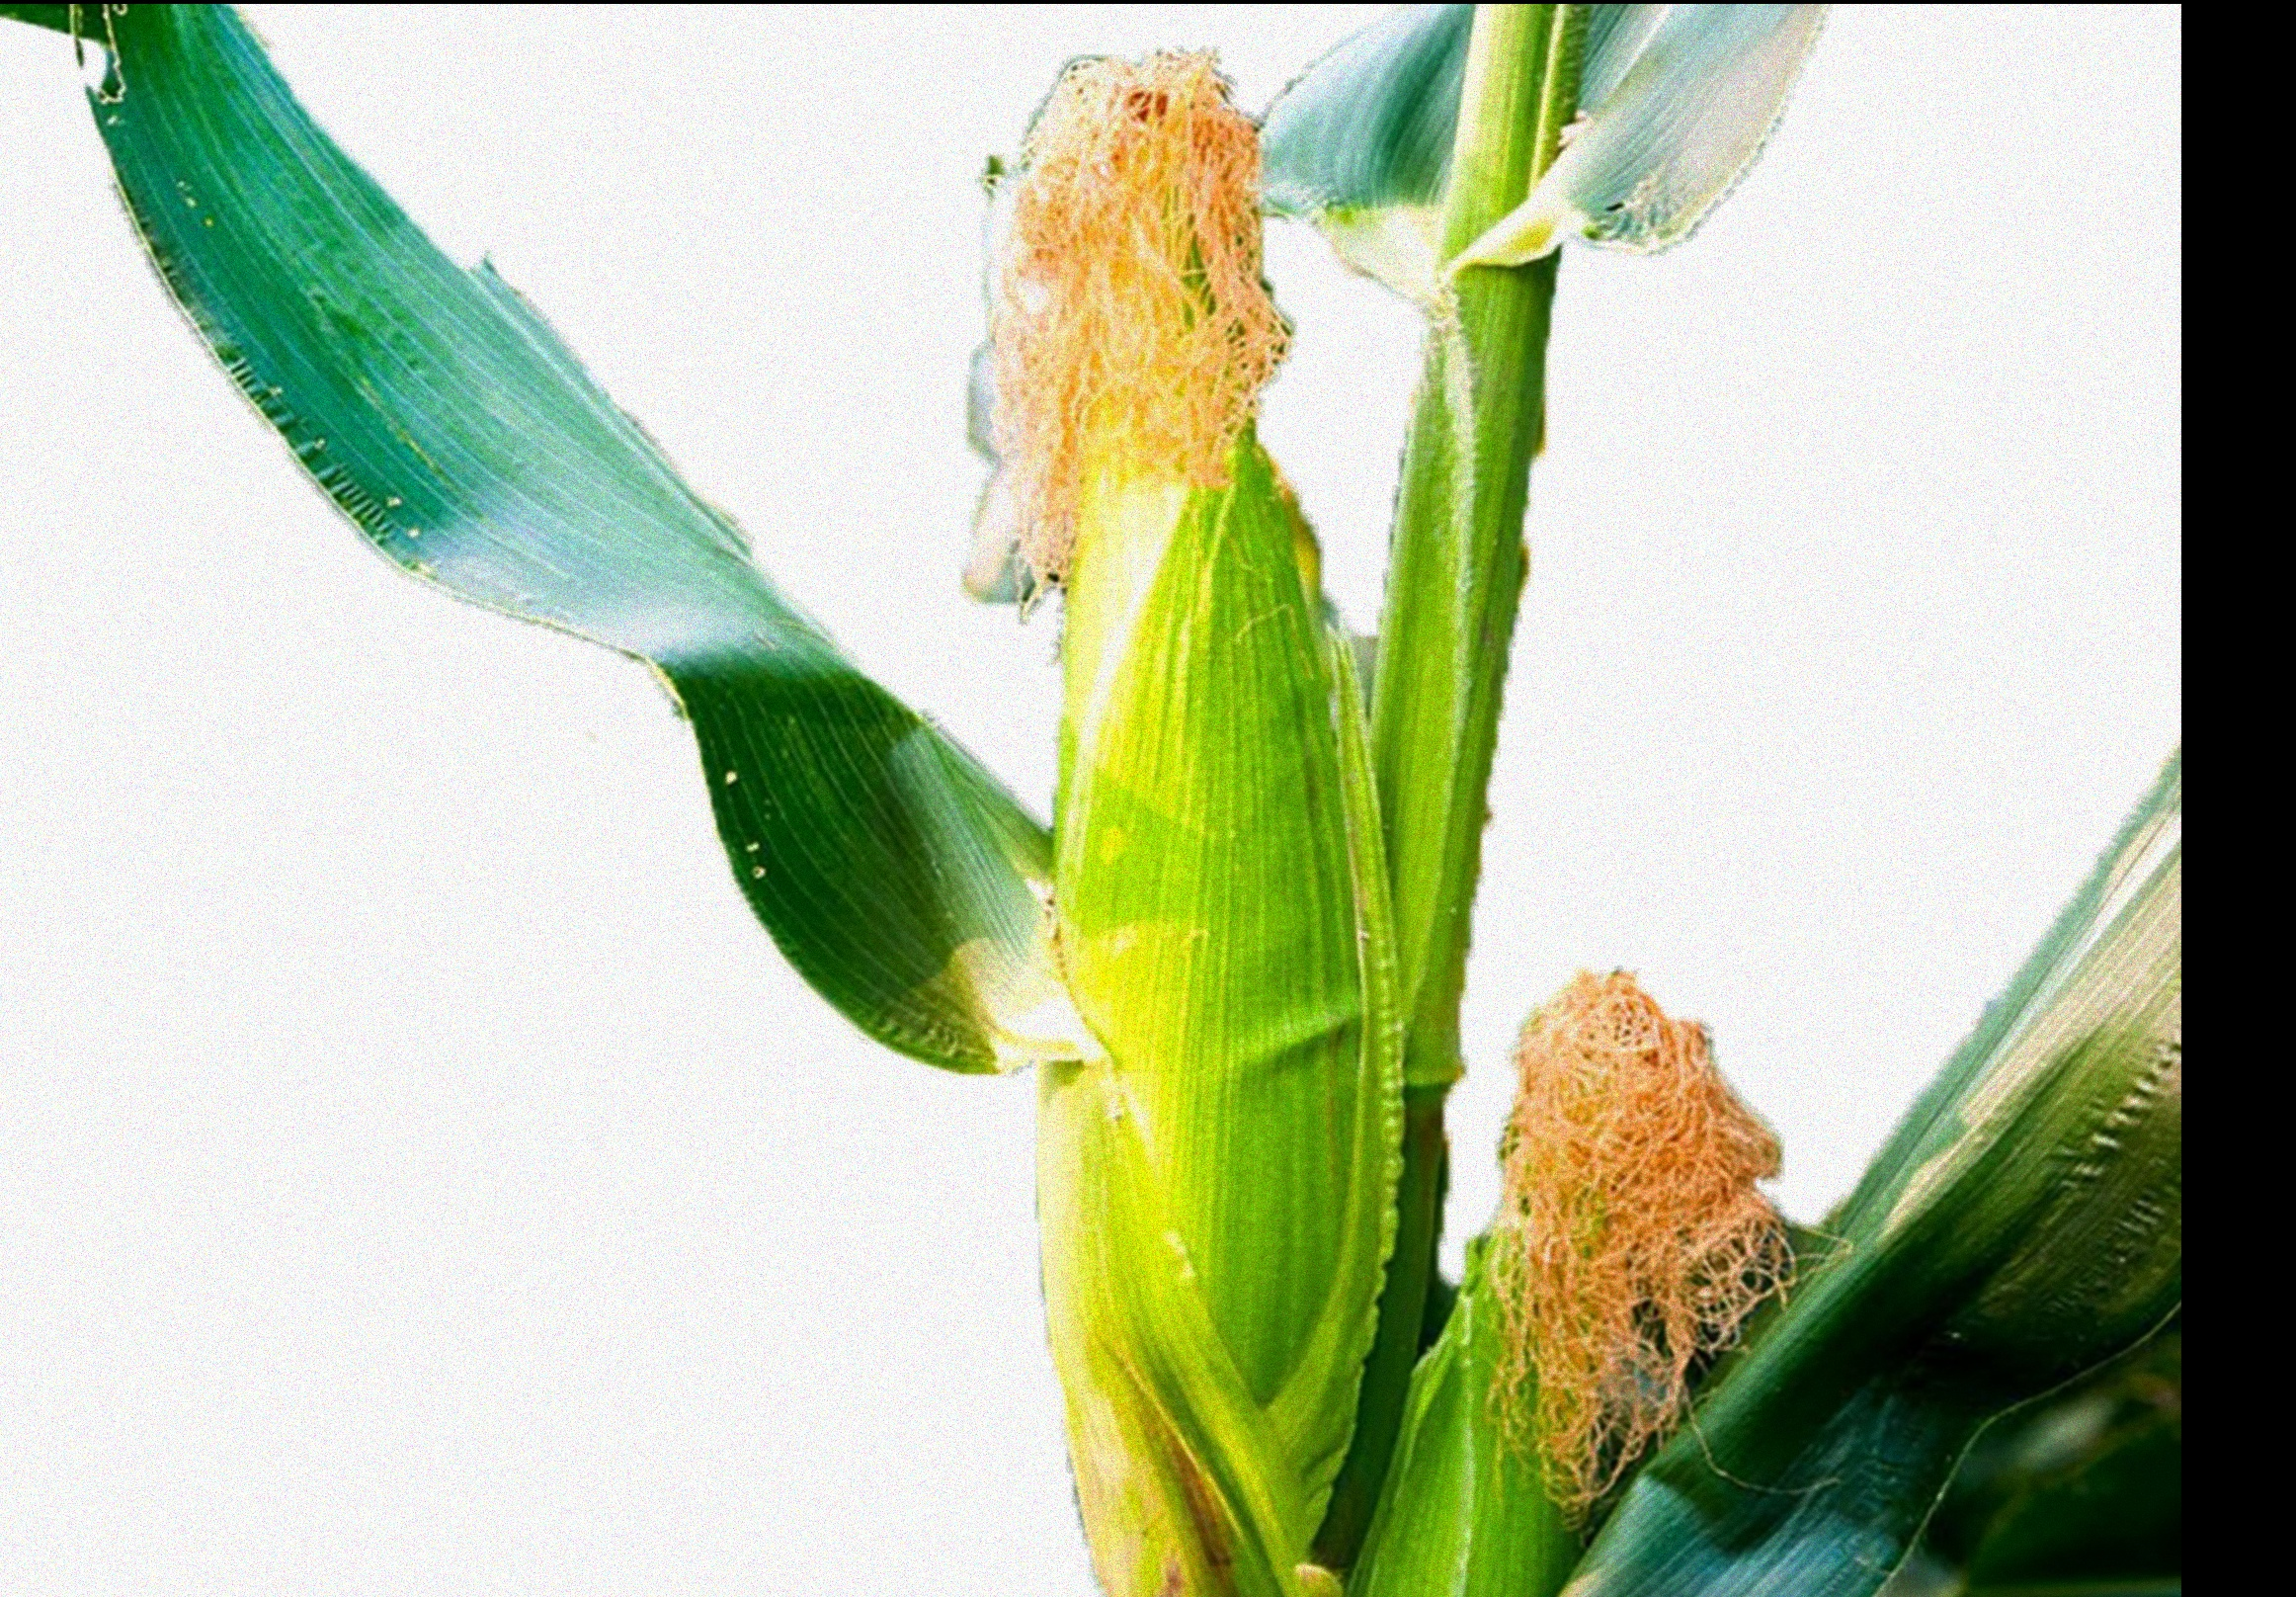corn_plant: (858, 12, 1391, 1573)
